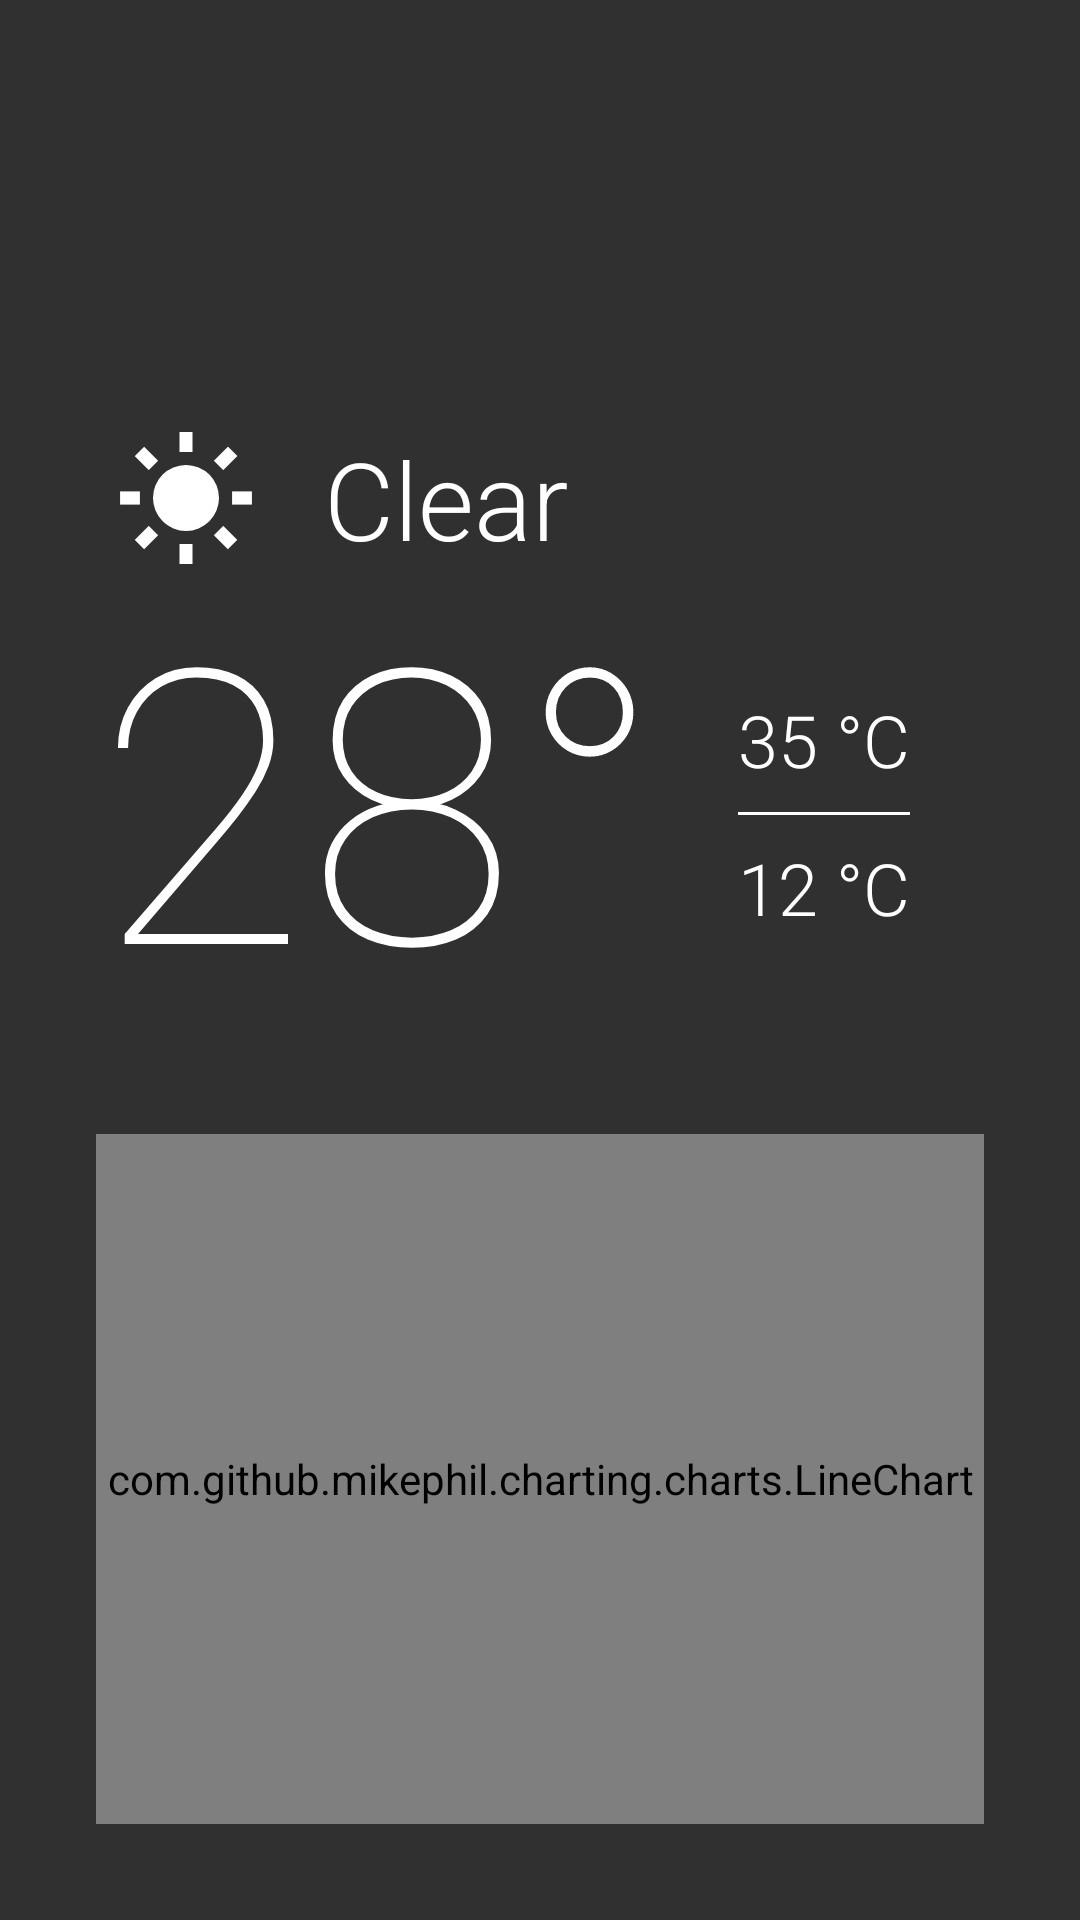

Named icons in this screenshot (1080x1920) and their bounding boxes, (x1, y1, x2, y2):
sun: (120, 432, 252, 564)
